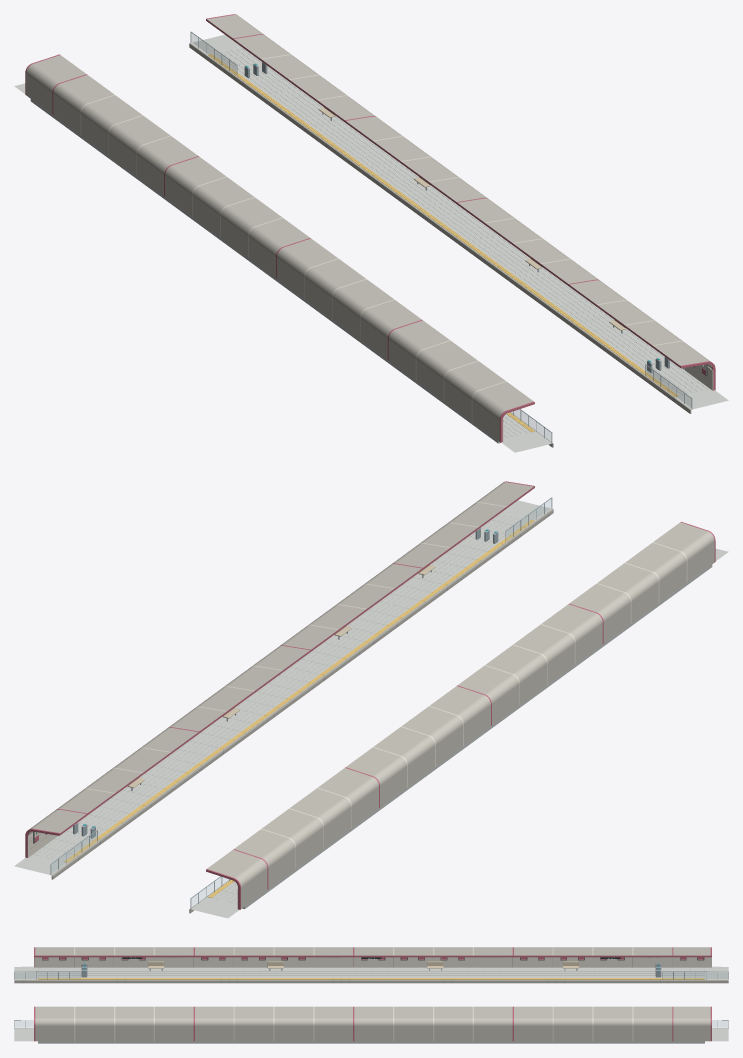
Rendered from station-A3.glb.
3 renders of one model, top to bottom at view 1: azimuth 30°, elevation 25°; view 2: azimuth 150°, elevation 25°; view 3: azimuth 270°, elevation 25°, orthographic. The views are drawn at different scales.
Visible parts, largest first — view 1: A3_platform_-1_roof, A3_platform_1_tile, A3_platform_1_roof, A3_platform_1_station_kerb, A3_platform_1_yellow, A3_platform_-1_concrete, A3_platform_-1_cladding, A3_platform_-1_tile, A3_platform_1_cladding, A3_platform_-1_accent; view 2: A3_platform_-1_roof, A3_platform_1_tile, A3_platform_1_roof, A3_platform_1_station_kerb, A3_platform_1_yellow, A3_platform_-1_concrete, A3_platform_-1_cladding, A3_platform_-1_tile, A3_platform_1_cladding, A3_platform_-1_accent; view 3: A3_platform_1_roof, A3_platform_-1_tile, A3_platform_-1_roof, A3_platform_-1_cladding, A3_platform_-1_station_kerb, A3_platform_1_concrete, A3_platform_-1_yellow, A3_platform_1_cladding, A3_platform_-1_accent, A3_platform_-1_sand, A3_platform_1_tile, A3_platform_-1_dark (+5 smaller).
Part boxes in pixels (left/top/right/bottom): A3_platform_-1_roof: left=26, top=55, right=533, bottom=441; A3_platform_1_tile: left=191, top=34, right=728, bottom=409; A3_platform_1_roof: left=206, top=14, right=712, bottom=368; A3_platform_1_station_kerb: left=189, top=43, right=691, bottom=413; A3_platform_1_yellow: left=208, top=54, right=705, bottom=396; A3_platform_-1_concrete: left=30, top=99, right=500, bottom=443; A3_platform_-1_cladding: left=80, top=94, right=506, bottom=441; A3_platform_-1_tile: left=14, top=83, right=551, bottom=452; A3_platform_1_cladding: left=261, top=54, right=713, bottom=390; A3_platform_-1_accent: left=25, top=54, right=534, bottom=442; A3_platform_-1_roof: left=207, top=522, right=714, bottom=908; A3_platform_1_tile: left=14, top=500, right=551, bottom=875; A3_platform_1_roof: left=28, top=482, right=533, bottom=836; A3_platform_1_station_kerb: left=51, top=508, right=553, bottom=879; A3_platform_1_yellow: left=35, top=519, right=534, bottom=862; A3_platform_-1_concrete: left=242, top=565, right=712, bottom=909; A3_platform_-1_cladding: left=237, top=542, right=687, bottom=908; A3_platform_-1_tile: left=191, top=548, right=728, bottom=918; A3_platform_1_cladding: left=27, top=502, right=506, bottom=857; A3_platform_-1_accent: left=206, top=521, right=715, bottom=909; A3_platform_1_roof: left=35, top=1006, right=710, bottom=1041; A3_platform_-1_tile: left=14, top=966, right=728, bottom=979; A3_platform_-1_roof: left=35, top=947, right=710, bottom=966; A3_platform_-1_cladding: left=34, top=947, right=711, bottom=967; A3_platform_-1_station_kerb: left=14, top=979, right=728, bottom=983; A3_platform_1_concrete: left=38, top=1041, right=704, bottom=1043; A3_platform_-1_yellow: left=38, top=978, right=704, bottom=979; A3_platform_1_cladding: left=74, top=1006, right=633, bottom=1041; A3_platform_-1_accent: left=34, top=947, right=711, bottom=966; A3_platform_-1_sand: left=148, top=961, right=578, bottom=968; A3_platform_1_tile: left=14, top=1028, right=728, bottom=1041; A3_platform_-1_dark: left=42, top=957, right=704, bottom=960.
Size of the model in its own units: 22.2 by 3.57 by 89.65.
